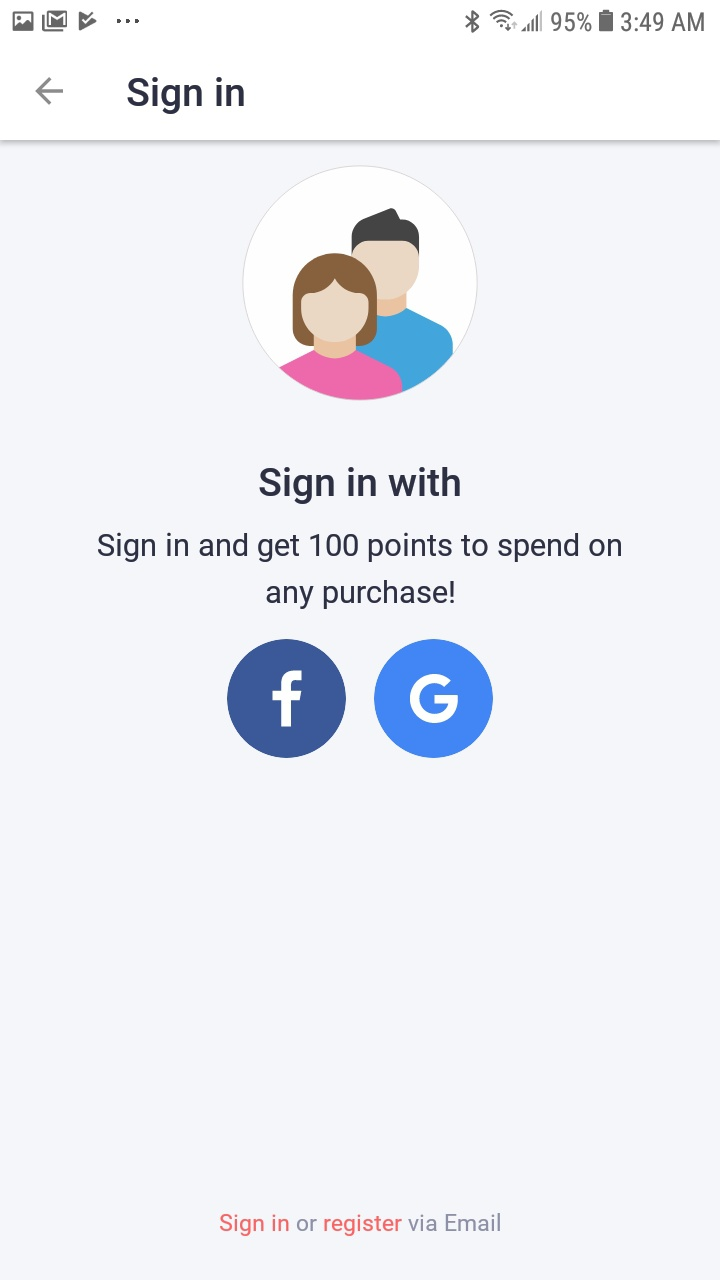Icon: (227, 639, 347, 759), (374, 639, 494, 759), (36, 76, 63, 102)
Image: (242, 165, 479, 402)
Text: (98, 532, 622, 610), (259, 467, 461, 505), (220, 1212, 501, 1237), (125, 74, 244, 113)
UpperTaskBar: (1, 1, 720, 35)
